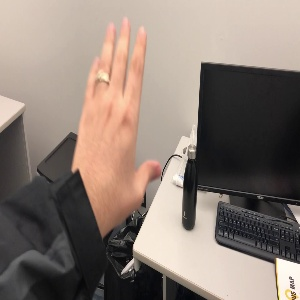hand: (72, 17, 163, 194)
